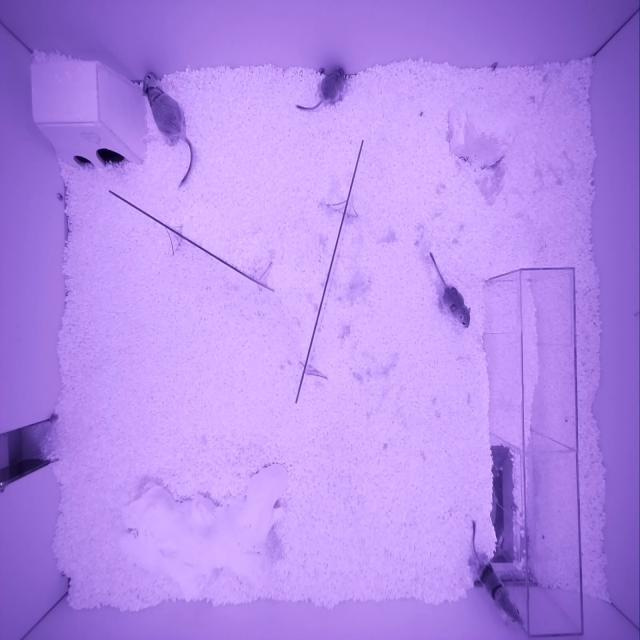adult_front: (143, 72, 183, 137)
pup_fluffy: (320, 68, 345, 104)
pup_h_stripe: (473, 559, 524, 626)
pup_spotted: (440, 286, 471, 329)
